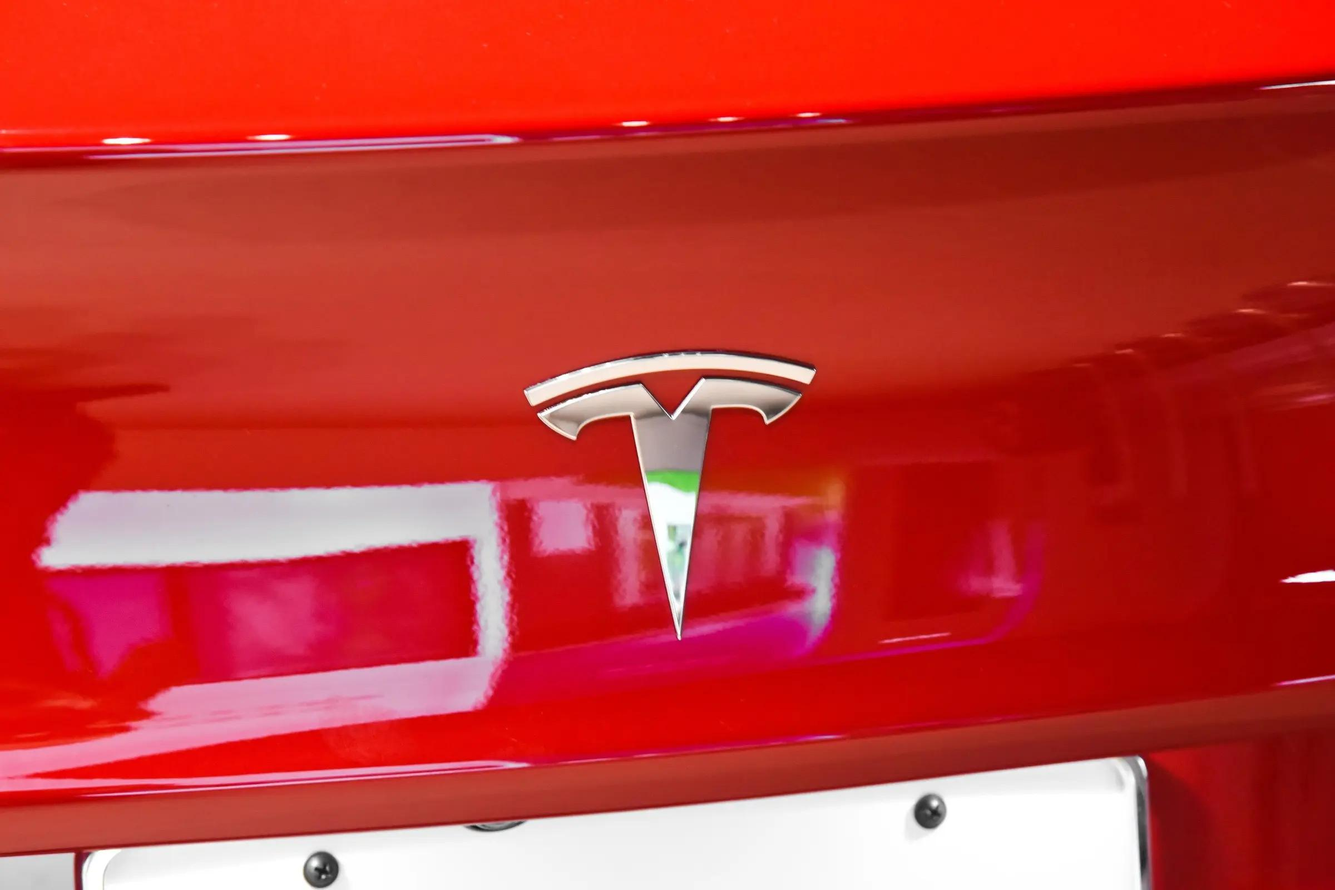Tesla: (523, 349, 818, 642)
